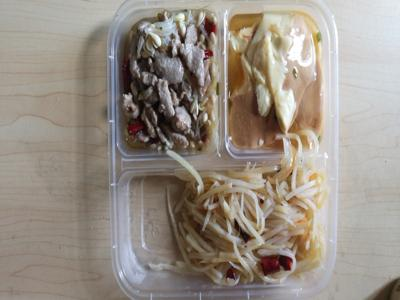df: (231, 11, 324, 151)
